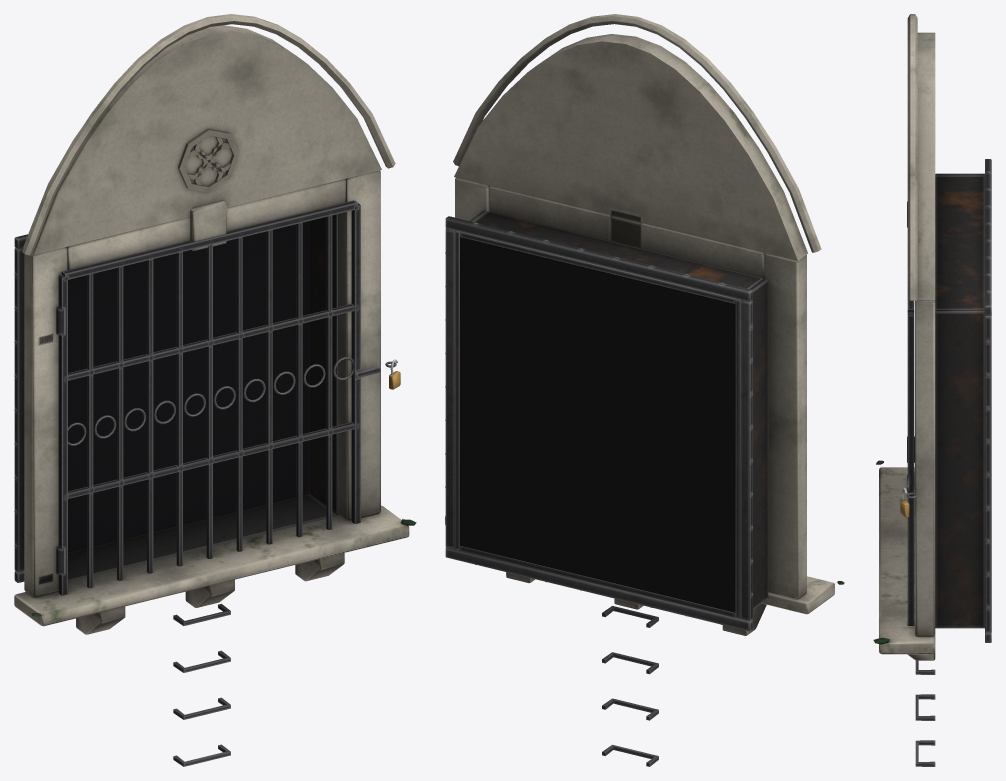
File: VentWallHigh.fbx
3 renders of one model, left to right at view 1: azimuth 30°, elevation 25°; view 2: azimuth 150°, elevation 25°; view 3: azimuth 270°, elevation 25°, orthographic. The views are drawn at different scales.
Parts seen in each view (by area): view 1: VentWallHigh_Main, VentWallHigh_Grate0; view 2: VentWallHigh_Main; view 3: VentWallHigh_Main, VentWallHigh_Grate0.
Part boxes in pixels (left/top/right/bottom): VentWallHigh_Main: left=14, top=14, right=416, bottom=766; VentWallHigh_Grate0: left=56, top=200, right=380, bottom=595; VentWallHigh_Main: left=445, top=14, right=844, bottom=766; VentWallHigh_Main: left=873, top=14, right=991, bottom=766; VentWallHigh_Grate0: left=907, top=201, right=914, bottom=625.
Size of the model in its own units: 767 by 1428 by 210.
